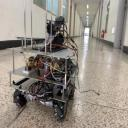cart: (6, 44, 78, 122)
